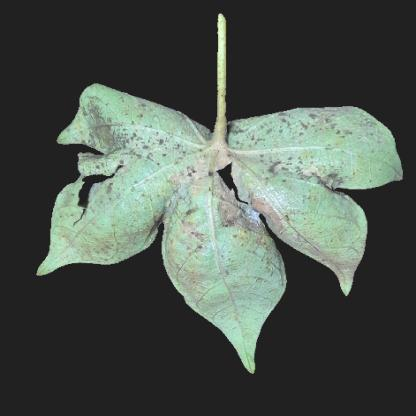curl_stage2: (87, 200, 145, 253), (222, 251, 260, 323), (311, 206, 365, 248), (188, 255, 219, 309), (361, 138, 397, 182)
sooty: (232, 109, 347, 148), (125, 120, 183, 188), (78, 104, 128, 147), (222, 192, 265, 238), (170, 195, 206, 249), (270, 151, 332, 179)
